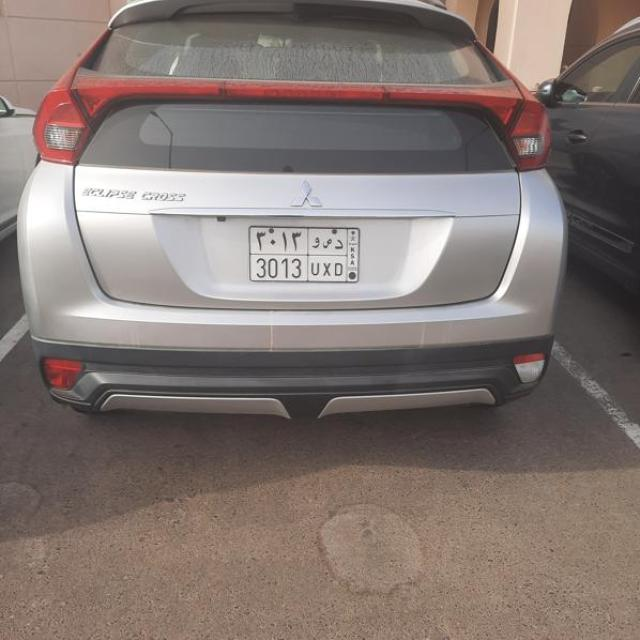license_plate: (250, 227, 358, 282)
